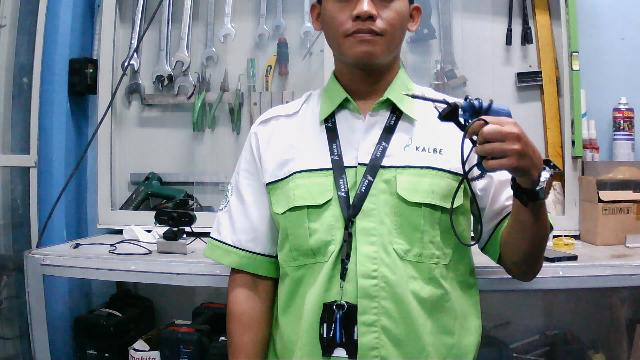solder_electrical: (400, 88, 515, 246)
